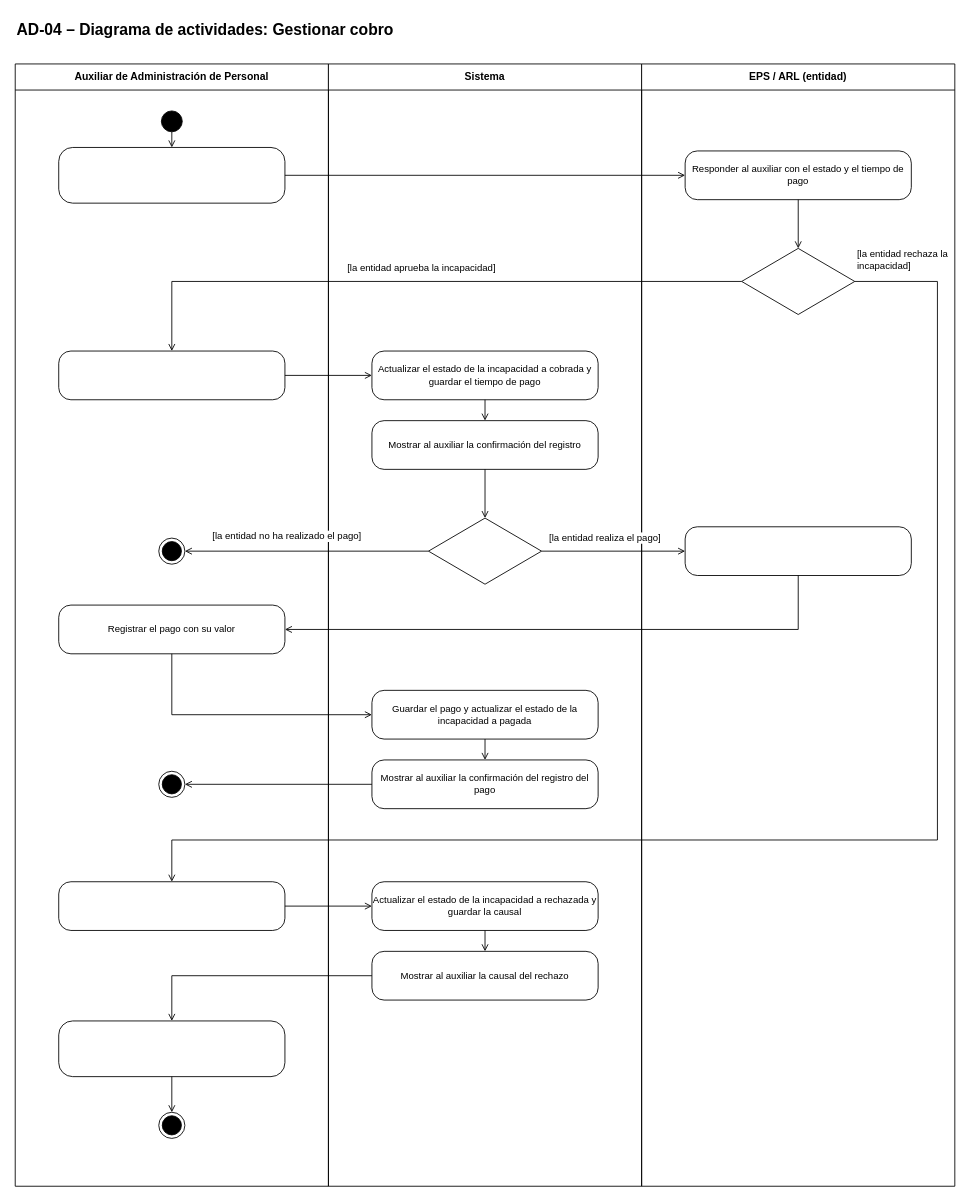
The diagram is 970 pixels wide and 1201 high, and some of its shapes have lost their labels. Here are the shapes that lost their labels. From the top down, the centre of each, then its label:
At (x=171, y=175): "Solicitar a la entidad el pago de la prestación con el formulario de la entidad".
At (x=171, y=375): "Registrar la incapacidad como cobrada con su tiempo de pago".
At (x=797, y=551): "Notificar al auxiliar el pago, con su valor y su fecha".
At (x=171, y=905): "Registrar el rechazo con su causal".
At (x=171, y=1048): "Solicitar a la entidad una nueva transcripción con los documentos".
